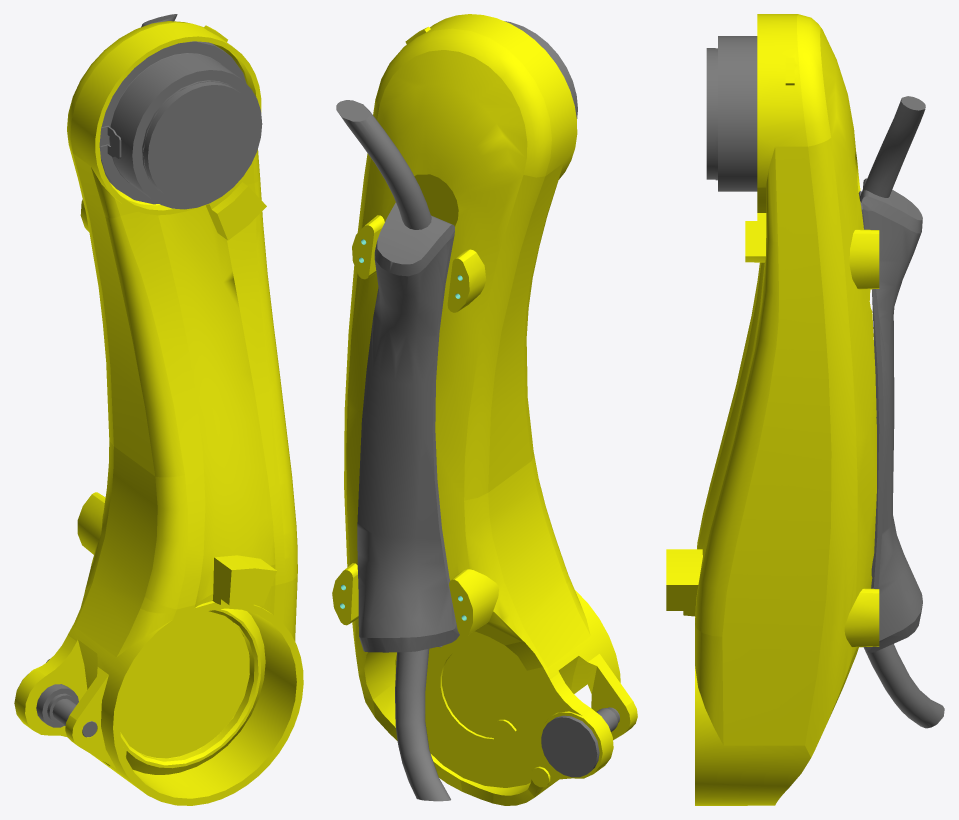
3 renders of one model, left to right at view 1: azimuth 30°, elevation 25°; view 2: azimuth 150°, elevation 25°; view 3: azimuth 270°, elevation 25°, orthographic. The views are drawn at different scales.
Visible parts, largest first — view 1: Mesh_0; view 2: Mesh_0; view 3: Mesh_0.
Boxes of the visible parts, bbox=[...] form: Mesh_0: bbox=[14, 14, 303, 805]; Mesh_0: bbox=[332, 14, 637, 805]; Mesh_0: bbox=[666, 14, 944, 805].
Size of the model in its own units: 0.4785 by 0.4697 by 1.44.
